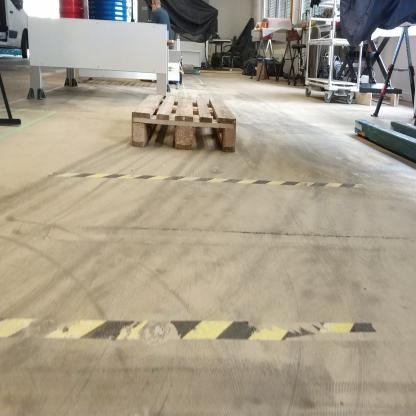BoxFace: (126, 86, 239, 155)
